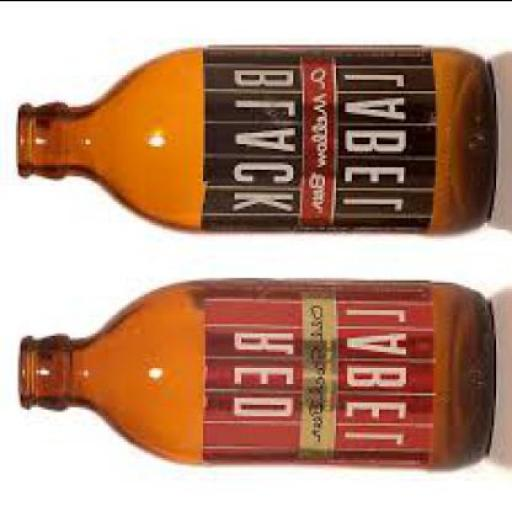glass: (18, 274, 494, 466), (16, 44, 494, 230)
